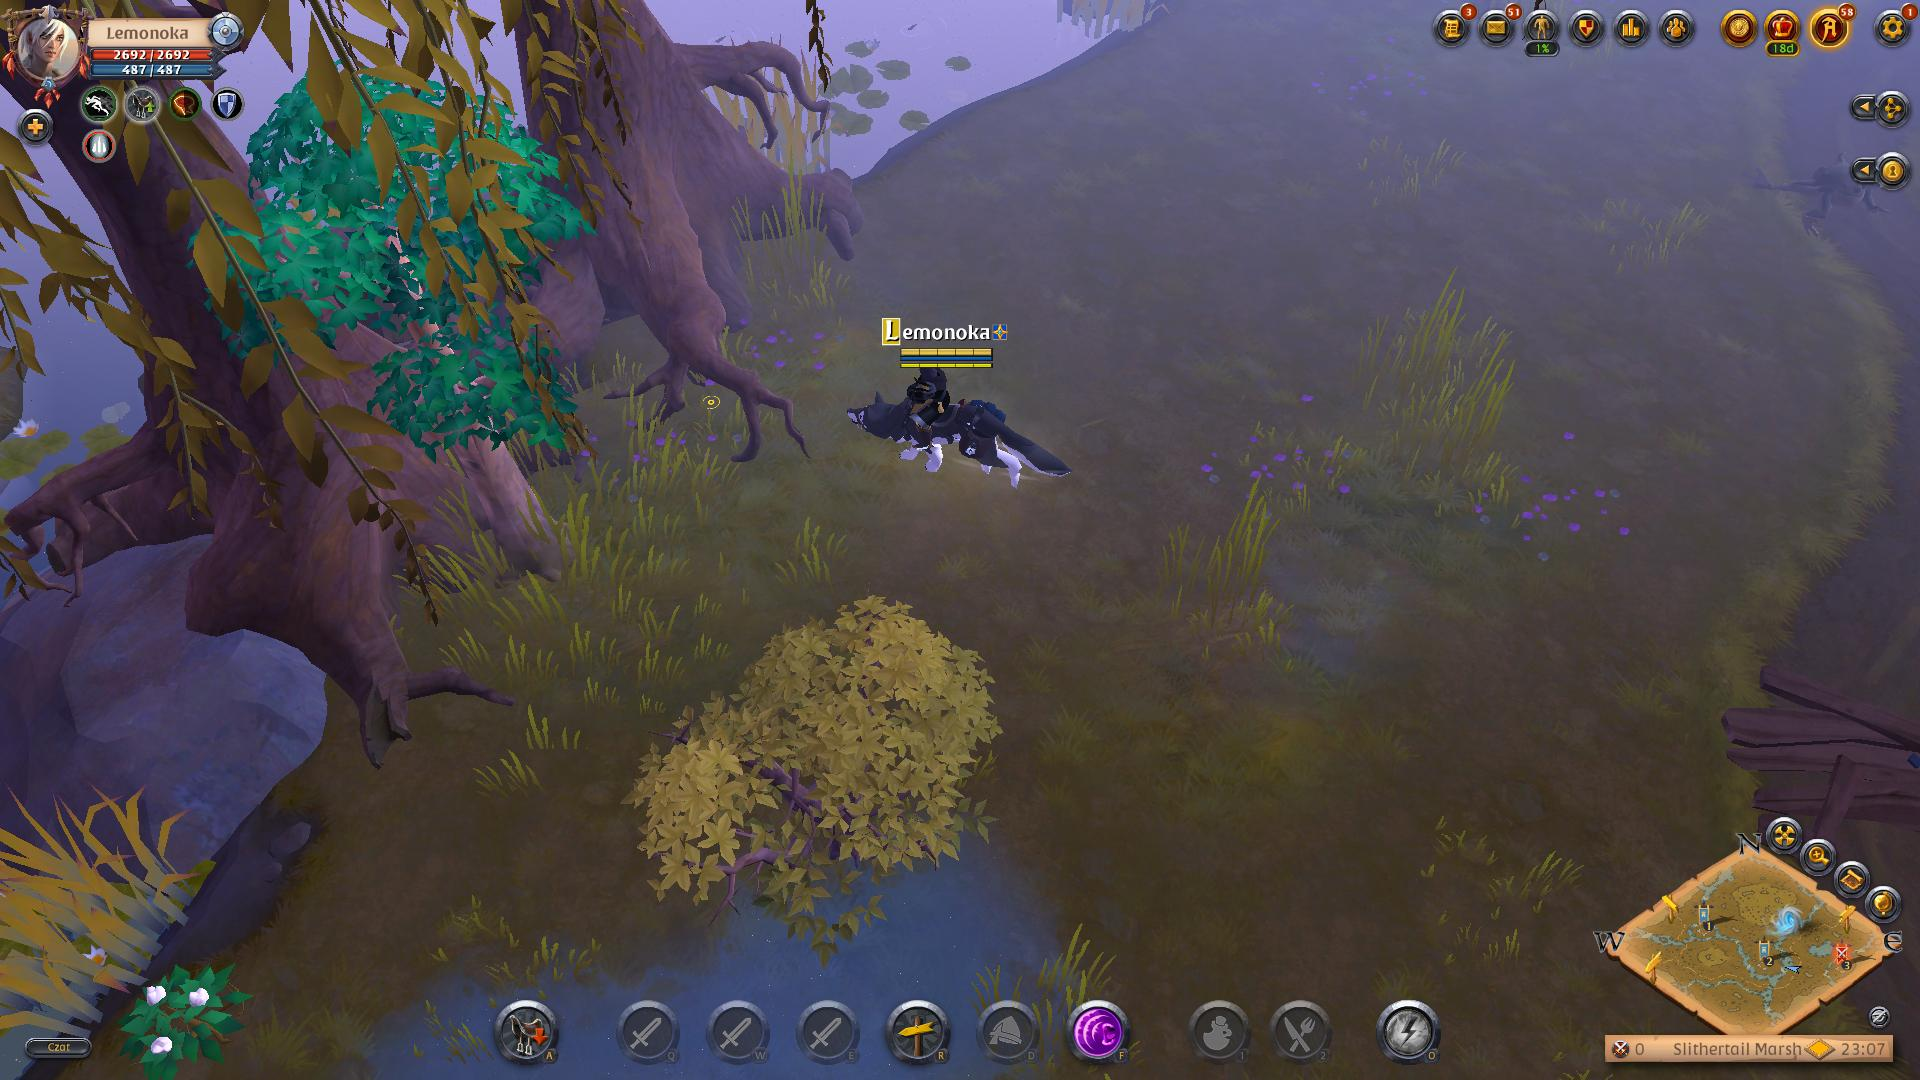fiber tier 3: (116, 959, 252, 1080)
